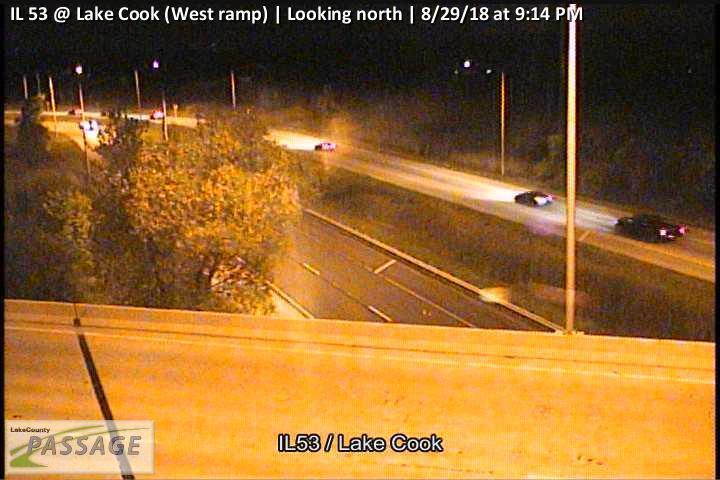Sedan: (616, 214, 690, 242), (515, 190, 554, 209)
